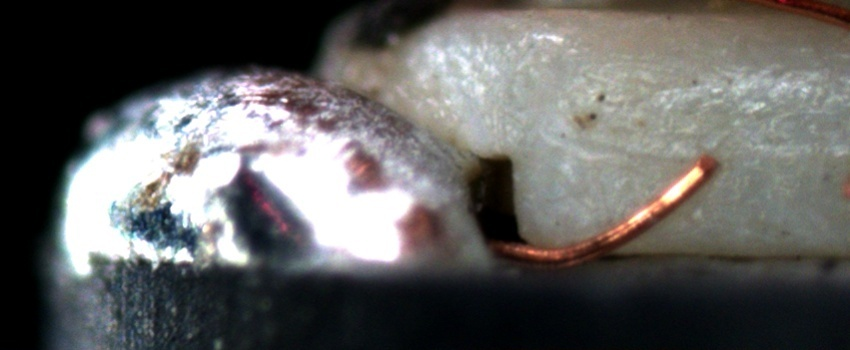DL: (560, 125, 849, 183)
